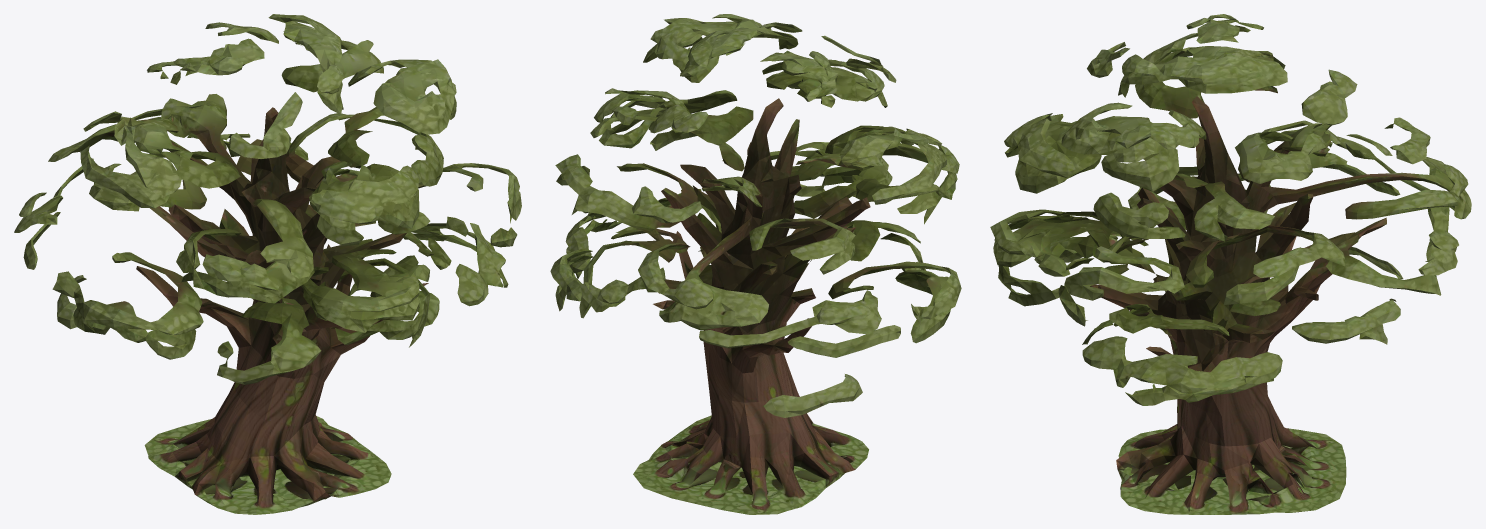
The model's file is tree7.obj.
3 views of the same model, side by side, from view 1: azimuth 30°, elevation 25°; view 2: azimuth 150°, elevation 25°; view 3: azimuth 270°, elevation 25° (orthographic). The views are drawn at different scales.
Parts seen in each view (by area): view 1: tripo_node_7e5e585d-dfce-4baa-b581-e0151741f652; view 2: tripo_node_7e5e585d-dfce-4baa-b581-e0151741f652; view 3: tripo_node_7e5e585d-dfce-4baa-b581-e0151741f652.
Part boxes in pixels (x1,y1,x2,y2): tripo_node_7e5e585d-dfce-4baa-b581-e0151741f652: (14,14,521,514); tripo_node_7e5e585d-dfce-4baa-b581-e0151741f652: (550,14,961,514); tripo_node_7e5e585d-dfce-4baa-b581-e0151741f652: (990,14,1471,514).
Size of the model in its own units: 0.9428 by 0.9721 by 0.9788.
